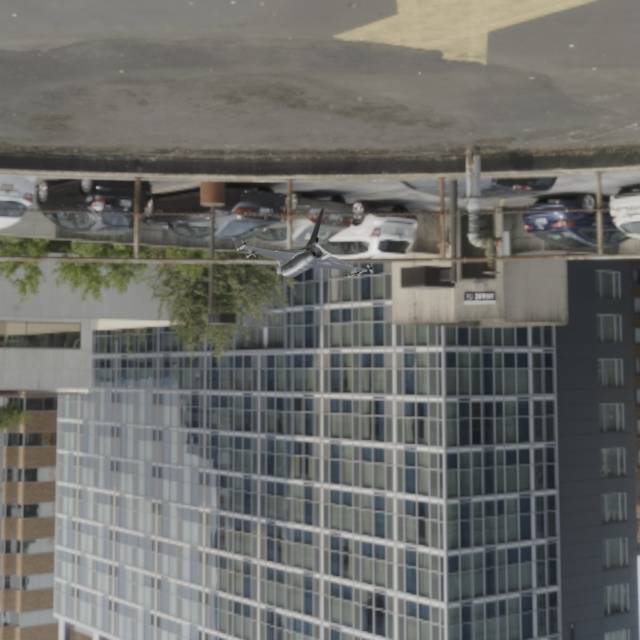model: (221, 194, 388, 294)
